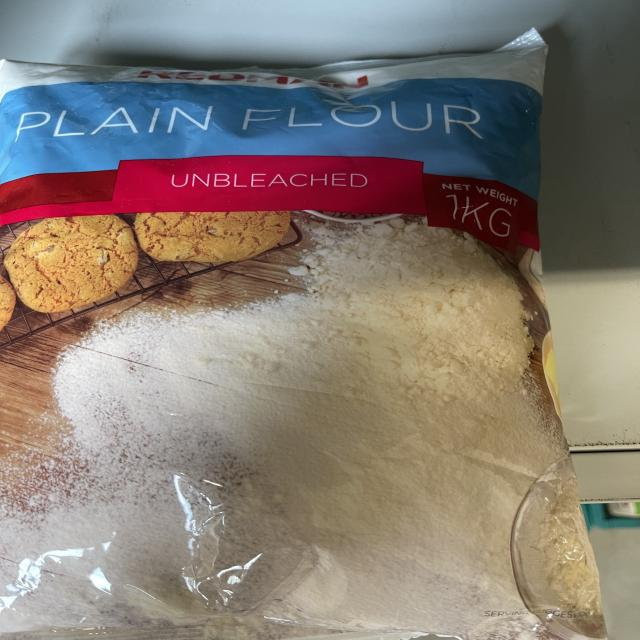object_name: (2, 59, 564, 635)
